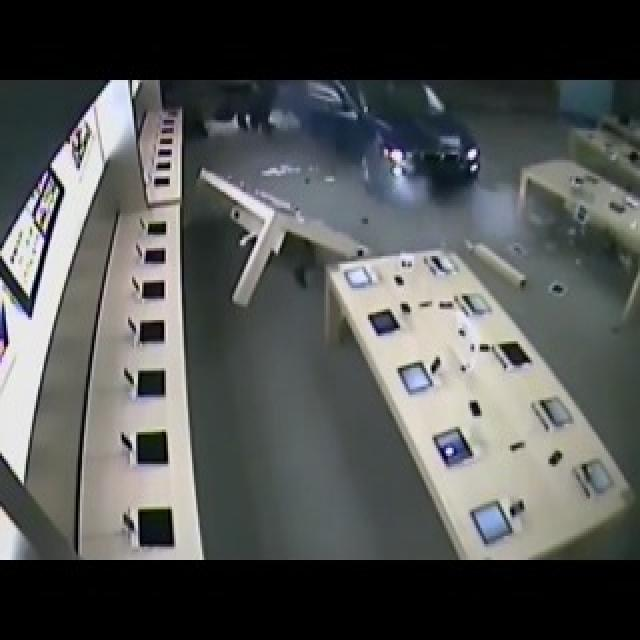burglary: (273, 80, 519, 215)
